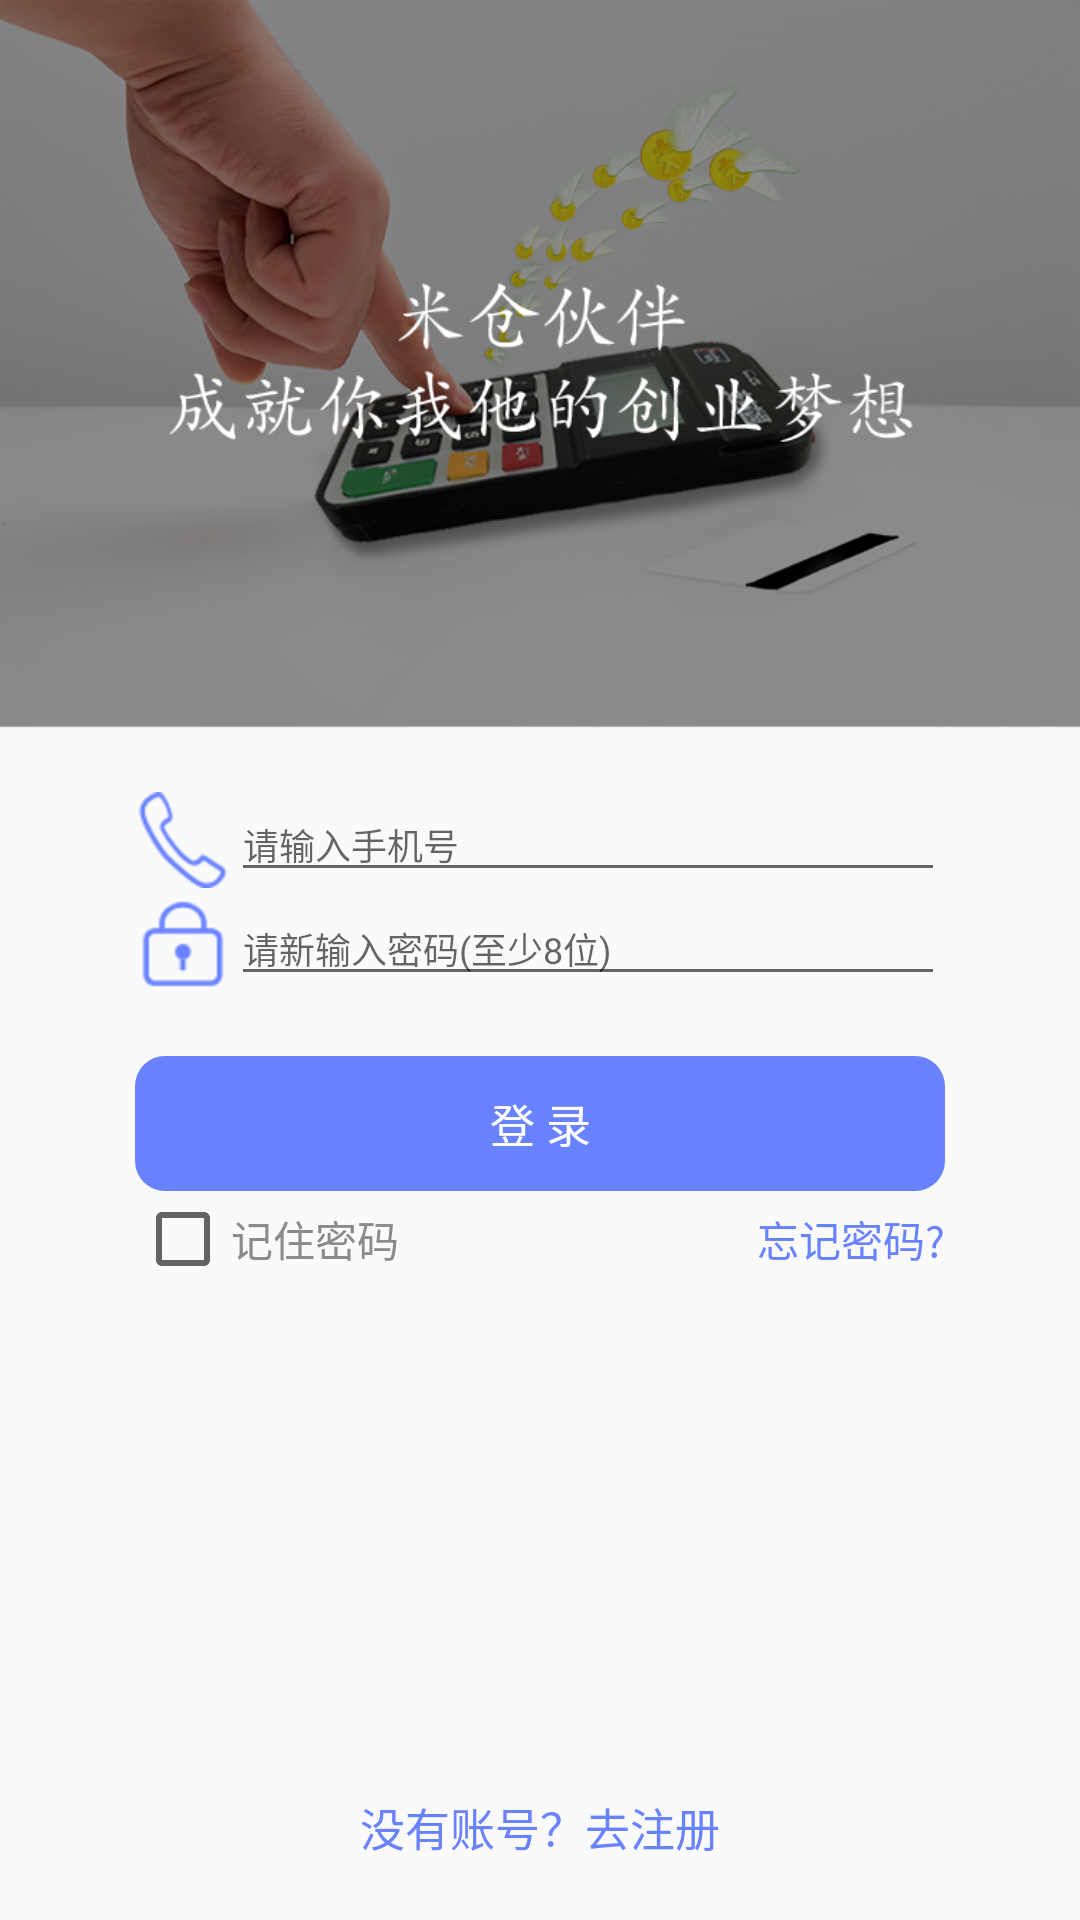

Where icons sit on this 1080×1920 app screen, as (x1, y1, x2, y2):
lock: (142, 901, 223, 987)
phone: (139, 792, 226, 888)
